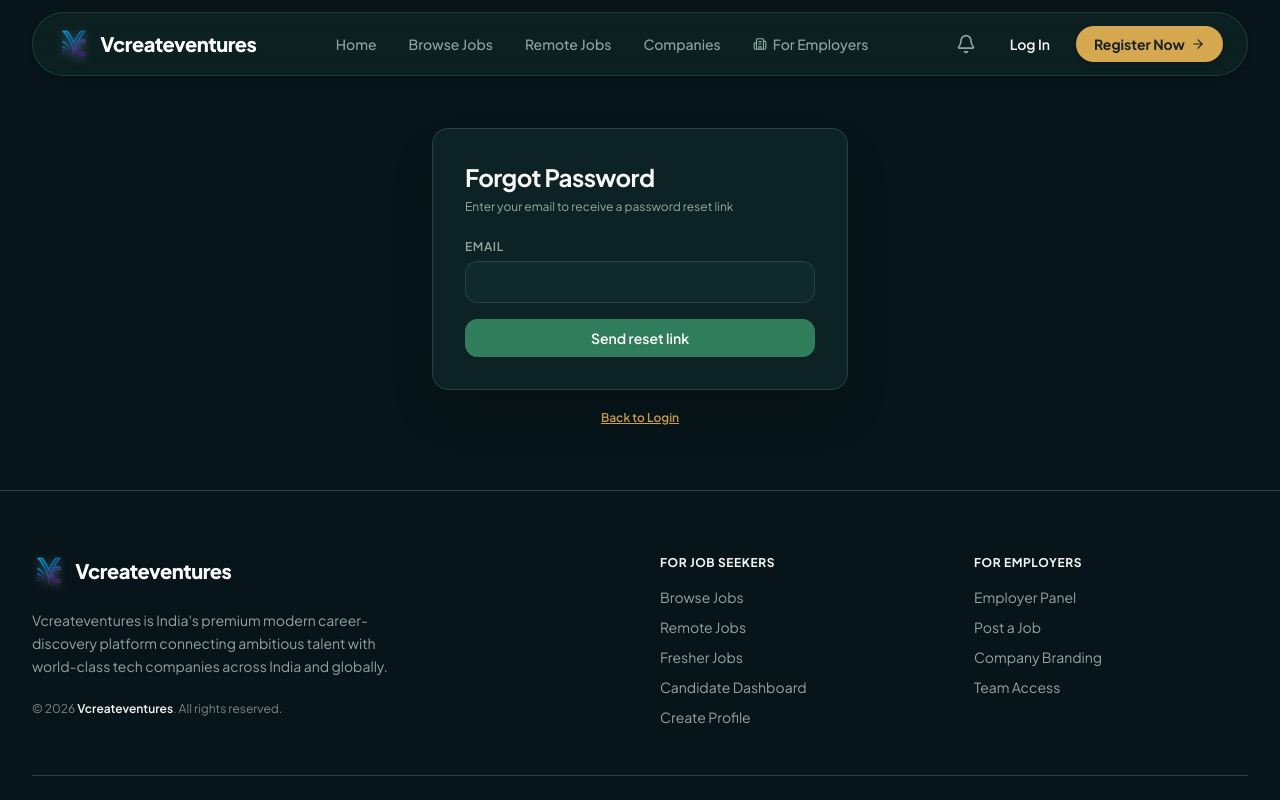
Test: password reset › forgot password par success message aata hai
The image size is (1280, 800).
Type "asha@example.com" into the field labelled "Email". click: (640, 282)
box: [465,261,815,303]
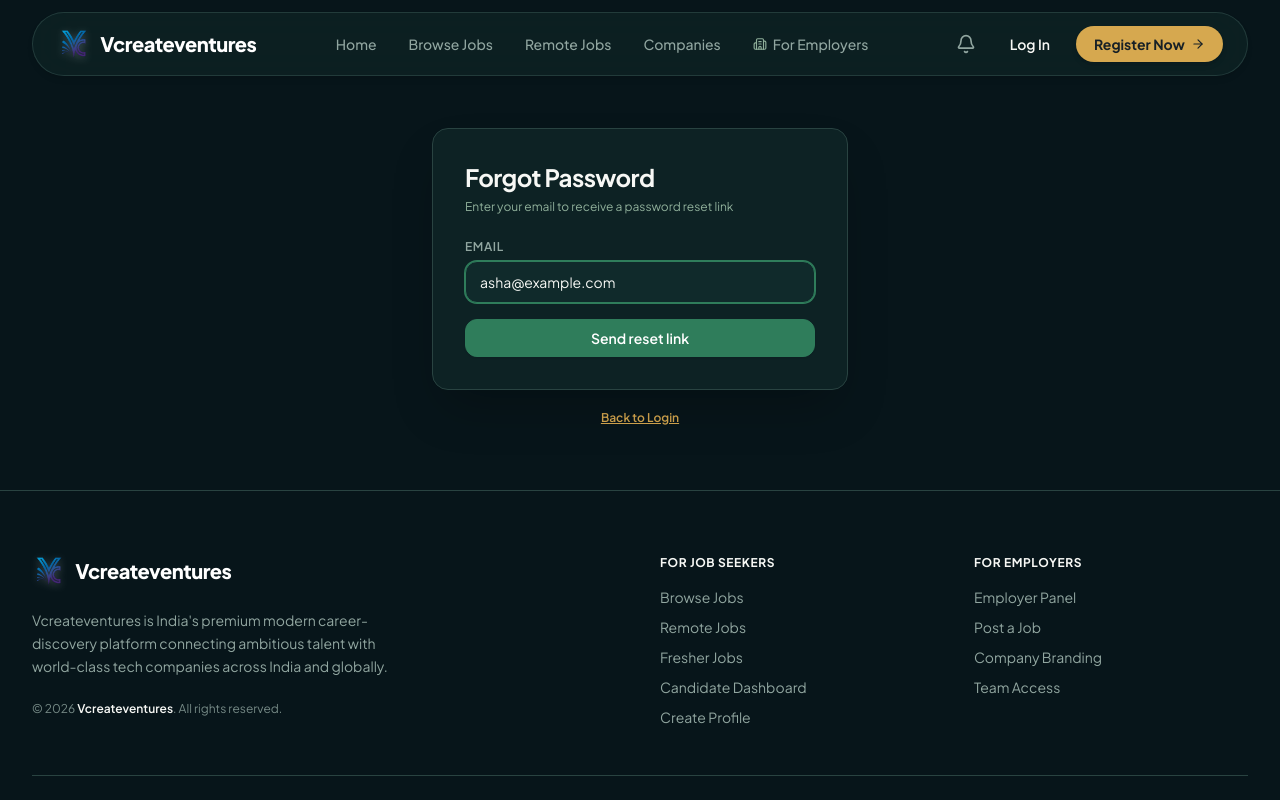
Click the button "Send reset link". click: click(640, 338)
box: [465,319,815,357]
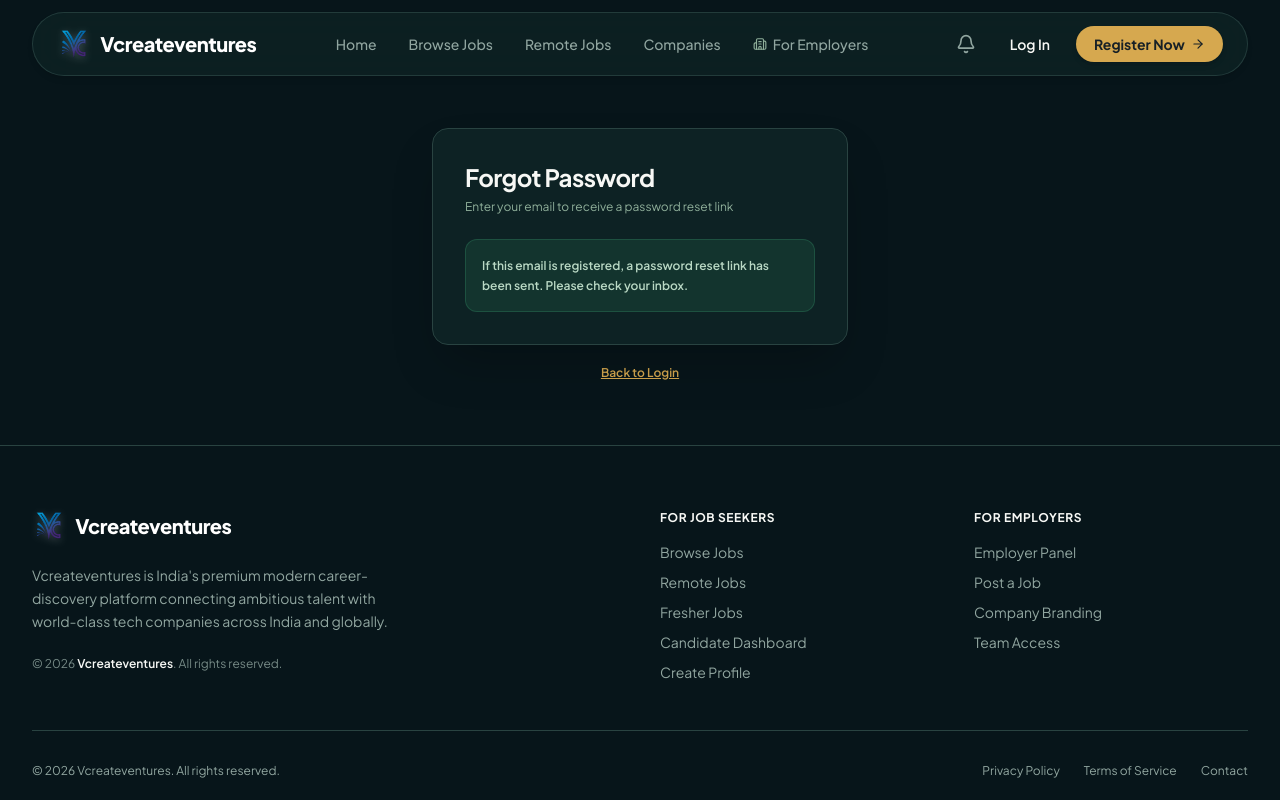
expect the text "password reset link has been sent" is shown: met, box [482,258,769,292]
